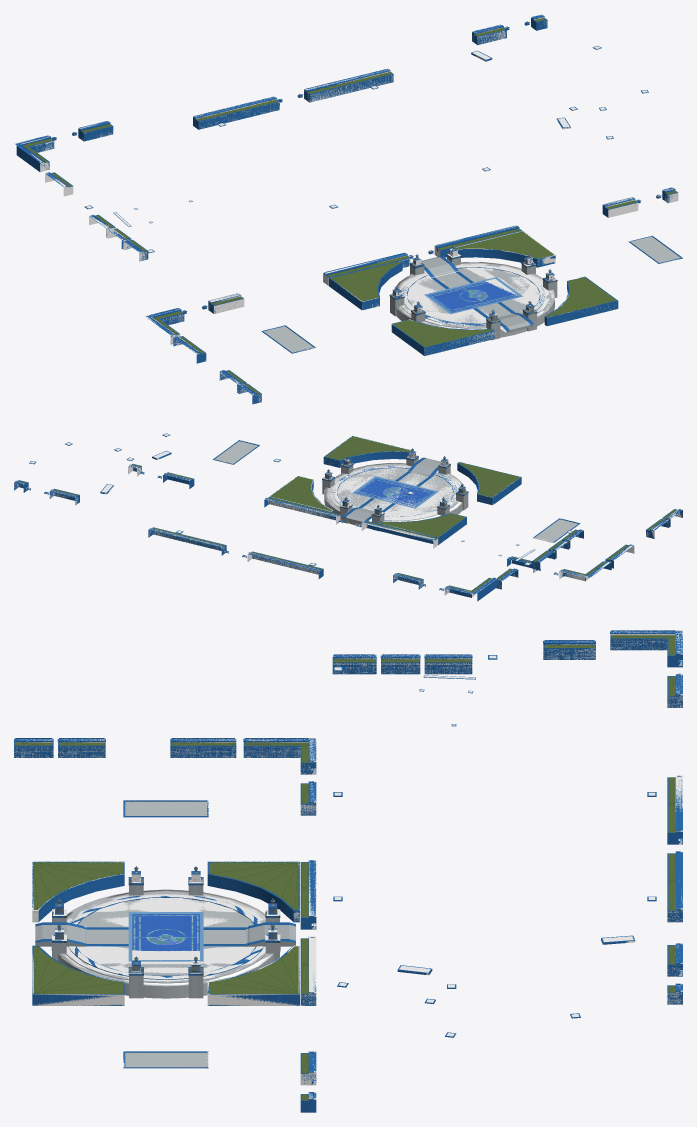
Rendered from objects_un_c02space01.gltf.
3 views of the same model, one above another, from view 1: azimuth 30°, elevation 25°; view 2: azimuth 150°, elevation 25°; view 3: azimuth 270°, elevation 25° (orthographic). The views are drawn at different scales.
Visible parts, largest first — view 1: um_objects_un_c02space01_model_lod0Shape:objects_un_c02space (×8), um_objects_un_c02space01_model_lod2Shape:objects_un_c02space (×2), um_objects_un_c02space01_model_lod1Shape:objects_un_c02space (×3); view 2: um_objects_un_c02space01_model_lod0Shape:objects_un_c02space (×9), um_objects_un_c02space01_model_lod2Shape:objects_un_c02space (×5), um_objects_un_c02space01_model_lod1Shape:objects_un_c02space (×4), um_objects_un_c02space01_model_lod1Shape:objects_un_c02soil0; view 3: um_objects_un_c02space01_model_lod0Shape:objects_un_c02space (×8), um_objects_un_c02space01_model_lod2Shape:objects_un_c02space (×4), um_objects_un_c02space01_model_lod1Shape:objects_un_c02space (×4), um_objects_un_c02space01_model_lod1Shape:objects_un_c02soil0.
Part boxes in pixels (<box>): um_objects_un_c02space01_model_lod0Shape:objects_un_c02space (×8): <box>14,14,682,404</box>; um_objects_un_c02space01_model_lod2Shape:objects_un_c02space (×2): <box>29,17,677,402</box>; um_objects_un_c02space01_model_lod1Shape:objects_un_c02space (×3): <box>23,18,676,394</box>; um_objects_un_c02space01_model_lod0Shape:objects_un_c02space (×9): <box>14,433,682,600</box>; um_objects_un_c02space01_model_lod2Shape:objects_un_c02space (×5): <box>16,436,677,594</box>; um_objects_un_c02space01_model_lod1Shape:objects_un_c02space (×4): <box>17,441,676,601</box>; um_objects_un_c02space01_model_lod1Shape:objects_un_c02soil0: <box>30,433,572,565</box>; um_objects_un_c02space01_model_lod0Shape:objects_un_c02space (×8): <box>14,630,682,1112</box>; um_objects_un_c02space01_model_lod2Shape:objects_un_c02space (×4): <box>14,637,675,1112</box>; um_objects_un_c02space01_model_lod1Shape:objects_un_c02space (×4): <box>15,635,675,1100</box>; um_objects_un_c02space01_model_lod1Shape:objects_un_c02soil0: <box>334,655,655,1036</box>.
Size of the model in its own units: 190 by 31.06 by 143.
Materials: 16 (14 with a texture image).
